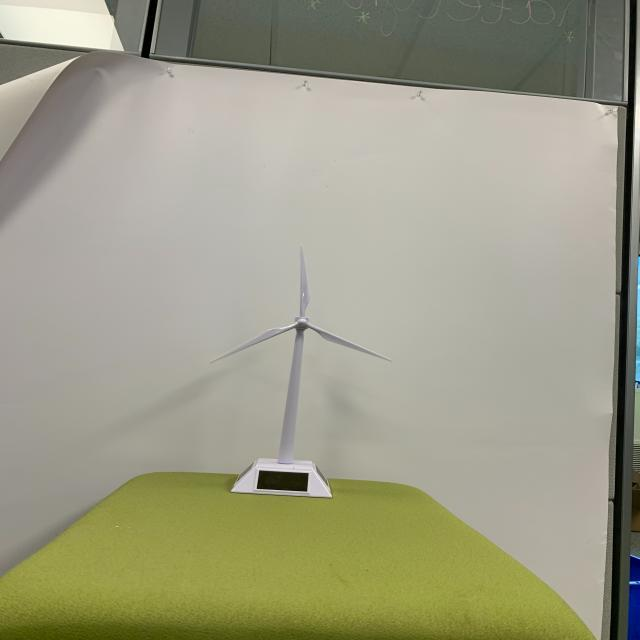solid-blade: (306, 321, 391, 361), (211, 324, 296, 362), (299, 246, 310, 316)
